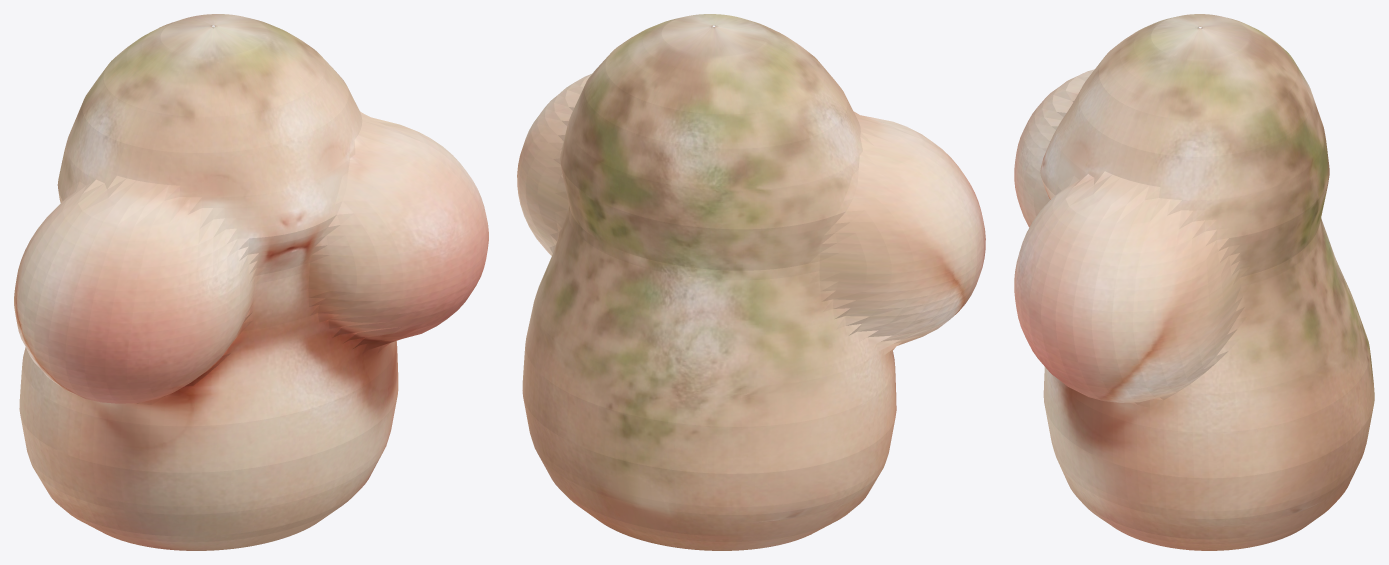
File: hohomochi.glb
3 views of the same model, side by side, from view 1: azimuth 30°, elevation 25°; view 2: azimuth 150°, elevation 25°; view 3: azimuth 270°, elevation 25° (orthographic).
Parts seen in each view (by area): view 1: Coat, CheekLeft, CheekRight; view 2: Coat, CheekLeft, CheekRight; view 3: Coat, CheekRight, CheekLeft.
Boxes of the visible parts, x1,y1,x2,y2 form: Coat: [19, 14, 401, 550]; CheekLeft: [14, 179, 257, 403]; CheekRight: [308, 116, 488, 344]; Coat: [522, 14, 901, 550]; CheekLeft: [819, 115, 985, 346]; CheekRight: [517, 74, 591, 255]; Coat: [1040, 14, 1374, 550]; CheekRight: [1014, 174, 1244, 402]; CheekLeft: [1014, 69, 1094, 227].
Bounding box in the file's own units: 1.06 × 1.13 × 0.7592.
Materials: 1 (1 with a texture image).
